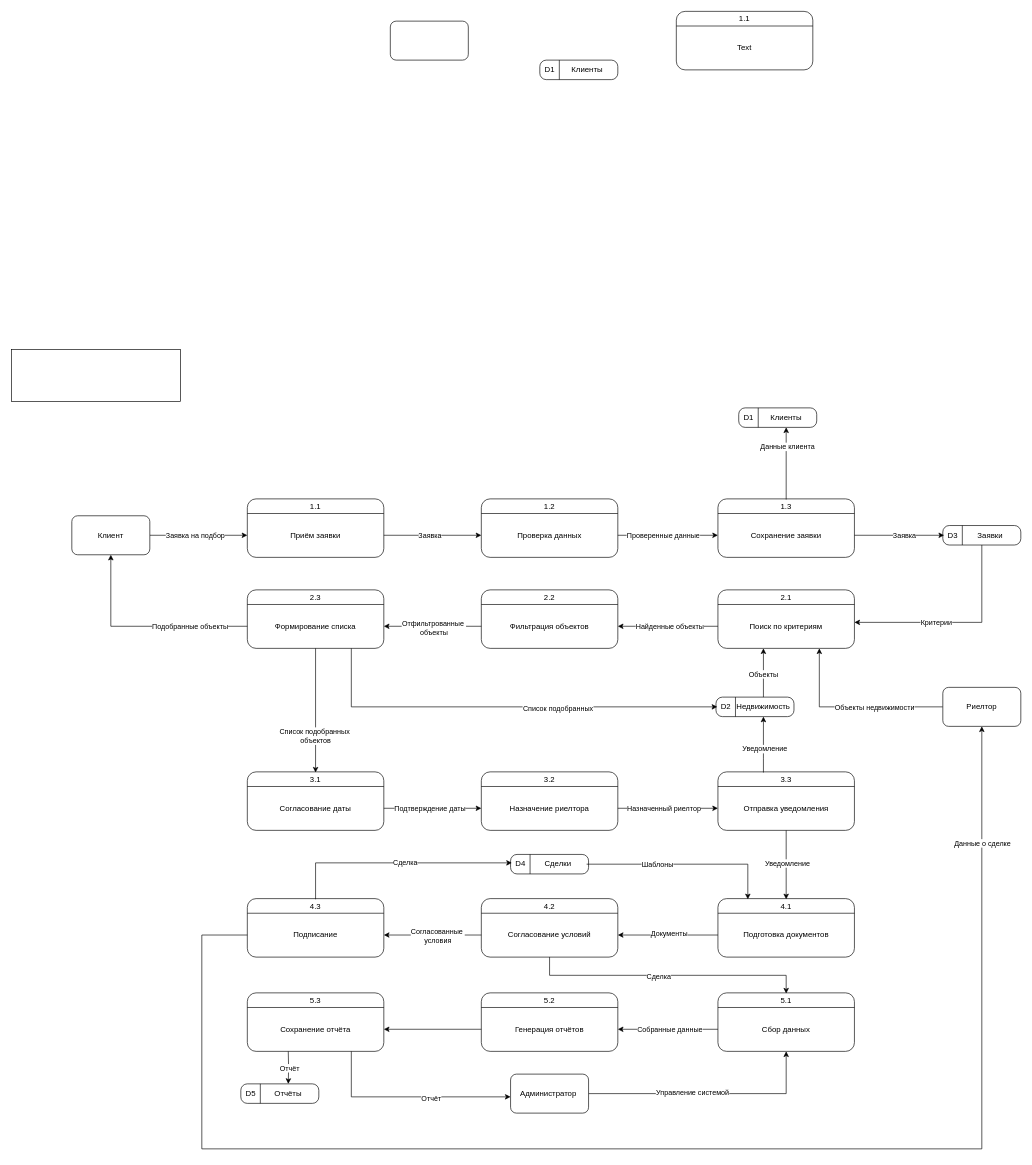
The diagram is 1032 pixels wide and 1165 high, and some of its shapes have lost their labels. The shapes that lost their labels are listed below. From the top down, each one's centre as x and y in pixels, then its label:
At (x=429, y=40): "Поставщик".
At (x=95, y=375): "Диаграмма потоков данных DFD Агентства недвижимости".
